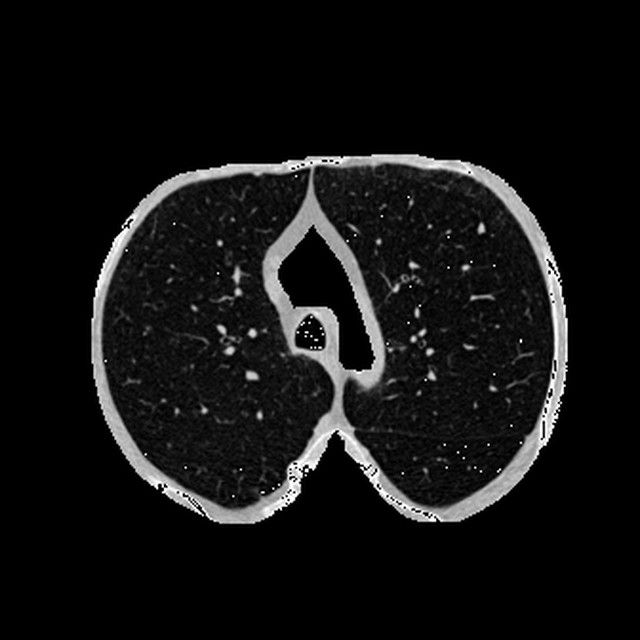PN: (476, 225, 484, 232)
